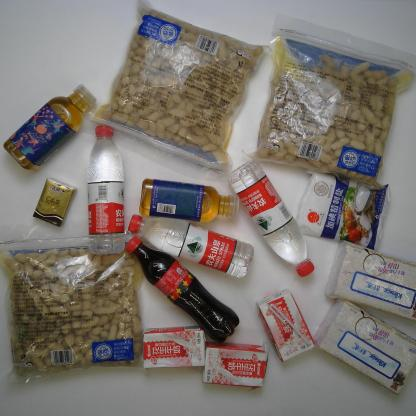Dried Food: (80, 0, 269, 184), (242, 13, 416, 191), (0, 224, 152, 386)
Drink: (124, 235, 240, 343), (226, 158, 316, 278), (2, 84, 96, 172), (127, 214, 255, 278), (86, 125, 126, 256), (138, 177, 240, 224)
Milk: (255, 288, 315, 362), (202, 338, 272, 392), (142, 324, 207, 371)
Seasoner: (295, 169, 391, 252)
Tissue: (312, 298, 416, 396), (324, 240, 416, 323), (32, 176, 78, 228)
